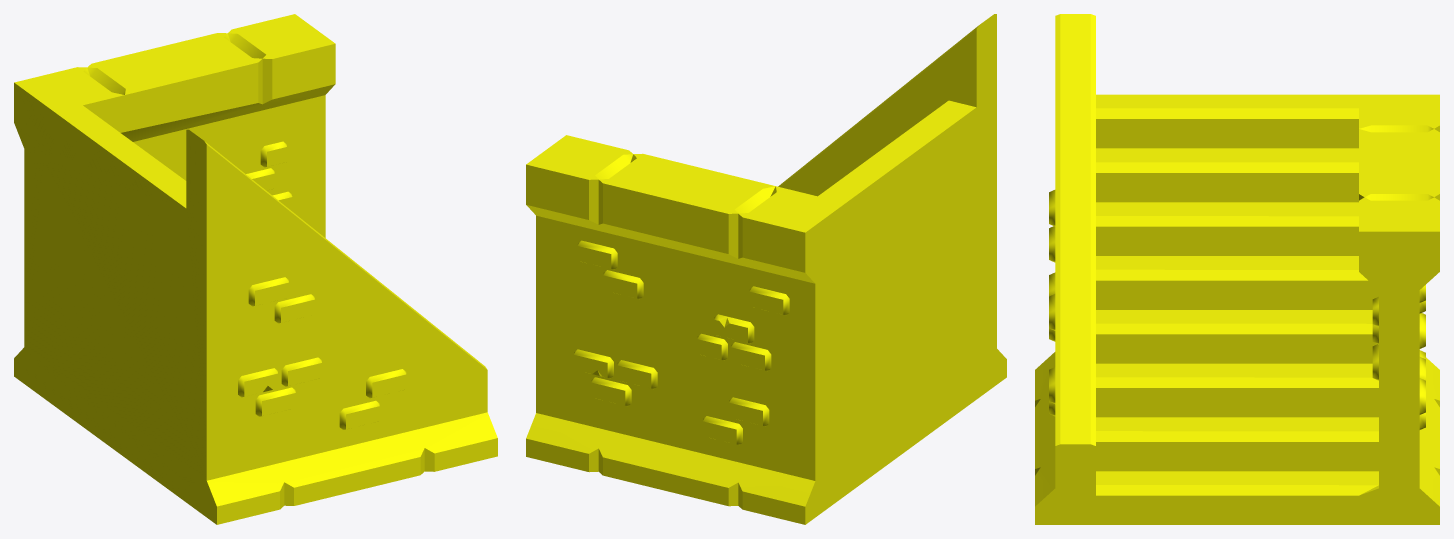
The model's file is kaykit-stairs-wall-left.glb.
3 renders of one model, left to right at view 1: azimuth 30°, elevation 25°; view 2: azimuth 150°, elevation 25°; view 3: azimuth 270°, elevation 25°, orthographic.
Visible parts, largest first — view 1: stairs_wall_left; view 2: stairs_wall_left; view 3: stairs_wall_left.
Part boxes in pixels (box(x1,y1,x2,y2)): stairs_wall_left: box(14, 14, 497, 524); stairs_wall_left: box(526, 14, 1006, 524); stairs_wall_left: box(1035, 14, 1439, 524).
Bounding box in the file's own units: 4 × 5.1 × 5.
